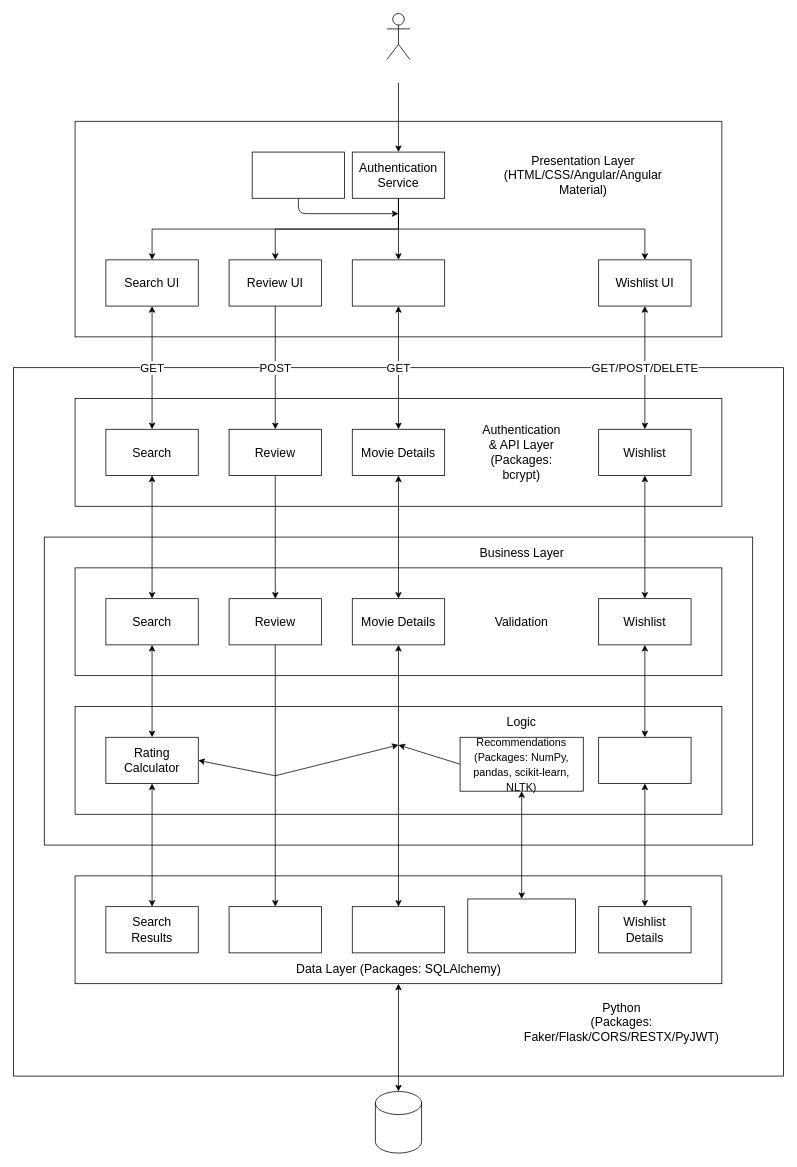
Image size: 797x1167. Some labels were removed from this diagram. Each missing label, with the centre of its shape:
"FilmFinder" goes at (398,36).
"Full Movie Details" goes at (398,929).
"Movie Details UI" goes at (398,282).
"Review Collection" goes at (274,929).
"SQLite DB" goes at (398,1122).
"User State (Ratings, Banned Users)" goes at (521,925).
"User Subscription" goes at (644,760).
"Web Service" goes at (298,174).
